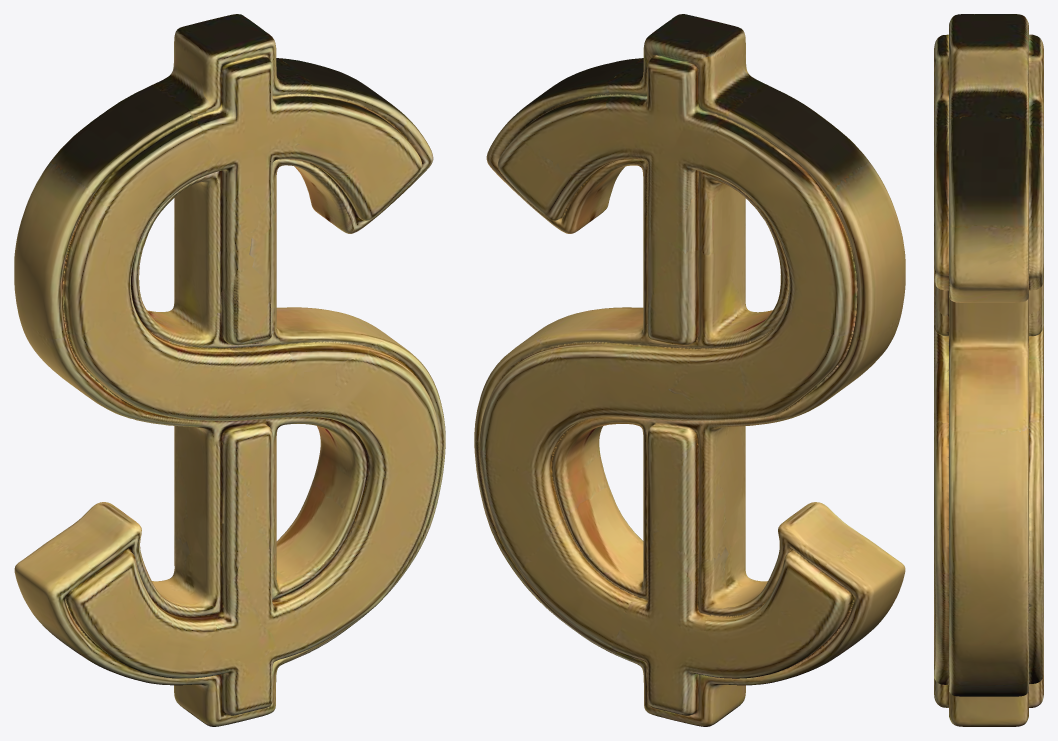
File: platform-symbol-lite.glb
The picture shows the model from 3 angles, left to right: view 1: azimuth 30°, elevation 25°; view 2: azimuth 150°, elevation 25°; view 3: azimuth 270°, elevation 25°; orthographic projection.
Visible parts, largest first — view 1: mesh_node; view 2: mesh_node; view 3: mesh_node.
Part boxes in pixels (x1=…): mesh_node: x1=14, y1=14, x2=445, y2=726; mesh_node: x1=474, y1=14, x2=905, y2=726; mesh_node: x1=934, y1=14, x2=1043, y2=726.
Bounding box in the file's own units: 1.18 × 1.9 × 0.2764.
Materials: 1 (1 with a texture image).
